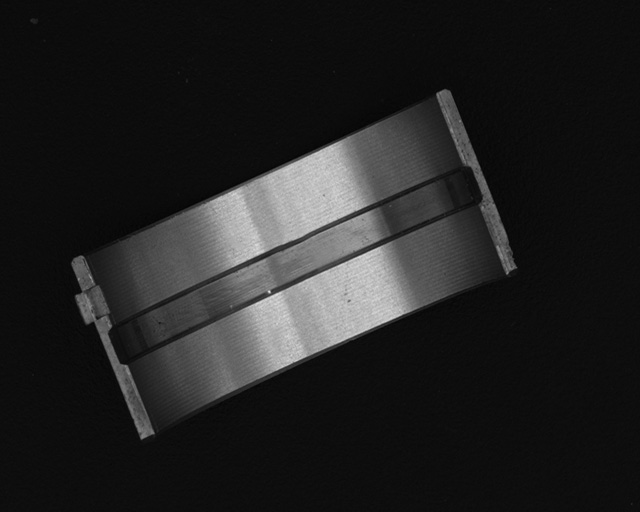gap: (109, 164, 483, 362)
